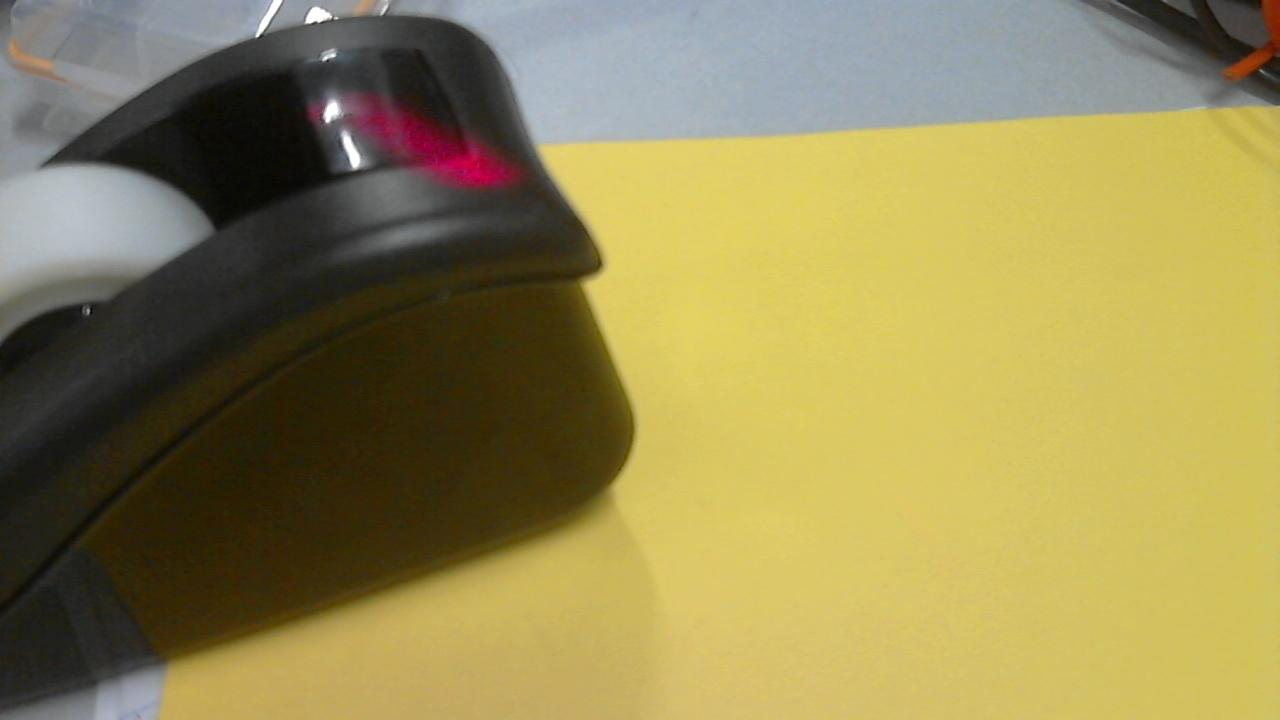Object fitness tracker replacement band - Material silicone - Pdfname fdfasdjhad: (302, 82, 532, 204)
